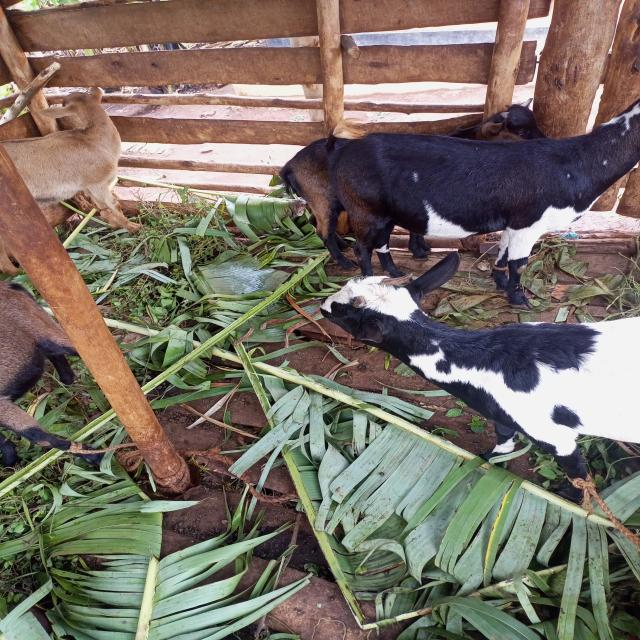goat: (299, 73, 640, 323)
